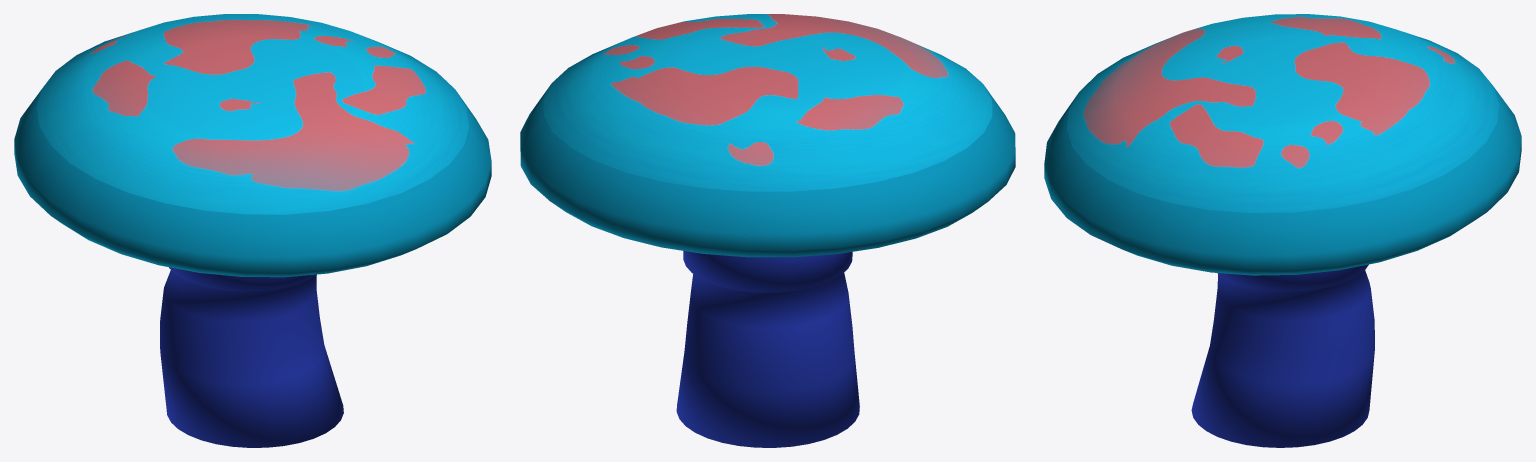
File: Small_mushroom.fbx
The picture shows the model from 3 angles, left to right: view 1: azimuth 30°, elevation 25°; view 2: azimuth 150°, elevation 25°; view 3: azimuth 270°, elevation 25°; orthographic projection. The views are drawn at different scales.
Parts seen in each view (by area): view 1: Little mushroom; view 2: Little mushroom; view 3: Little mushroom.
Part boxes in pixels (box(x1,y1,x2,y2)): Little mushroom: box(14, 14, 491, 447); Little mushroom: box(520, 14, 1015, 447); Little mushroom: box(1044, 14, 1521, 447).
Bounding box in the file's own units: 18.14 × 14.19 × 18.01.
